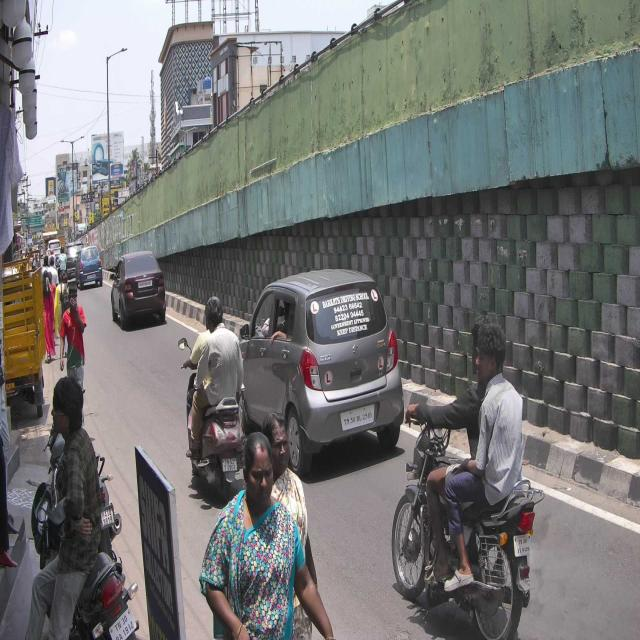double_rider: (391, 311, 544, 640), (178, 294, 245, 498)
